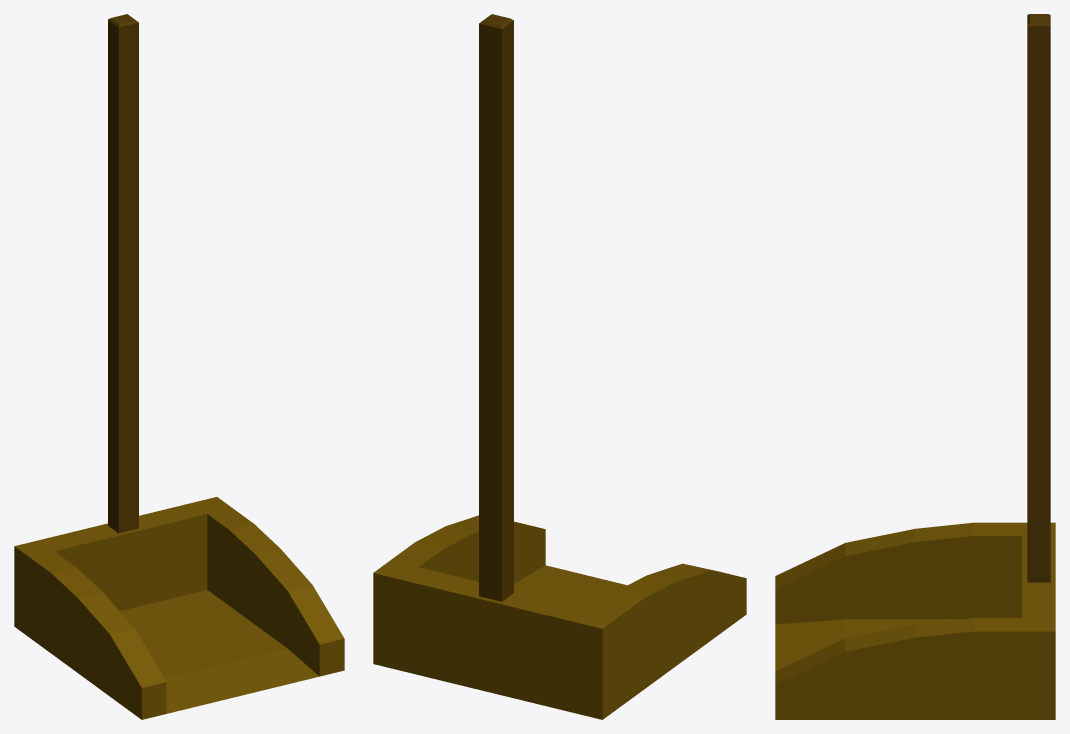
File: Recogedor.fbx
3 views of the same model, side by side, from view 1: azimuth 30°, elevation 25°; view 2: azimuth 150°, elevation 25°; view 3: azimuth 270°, elevation 25° (orthographic). The views are drawn at different scales.
Visible parts, largest first — view 1: pCube1; view 2: pCube1; view 3: pCube1.
Boxes of the visible parts, x1,y1,x2,y2 form: pCube1: (14, 14, 344, 719); pCube1: (373, 14, 746, 719); pCube1: (775, 14, 1055, 719).
Size of the model in its own units: 0.4045 by 1.12 by 0.4406.
